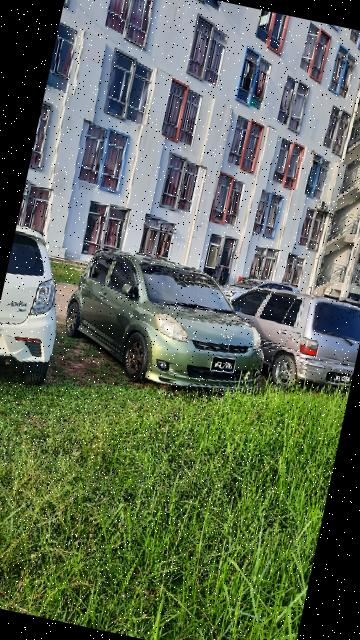License_Plate: (206, 353, 240, 378), (324, 368, 354, 388)
car: (54, 240, 292, 425), (216, 274, 360, 404), (1, 215, 89, 394)
